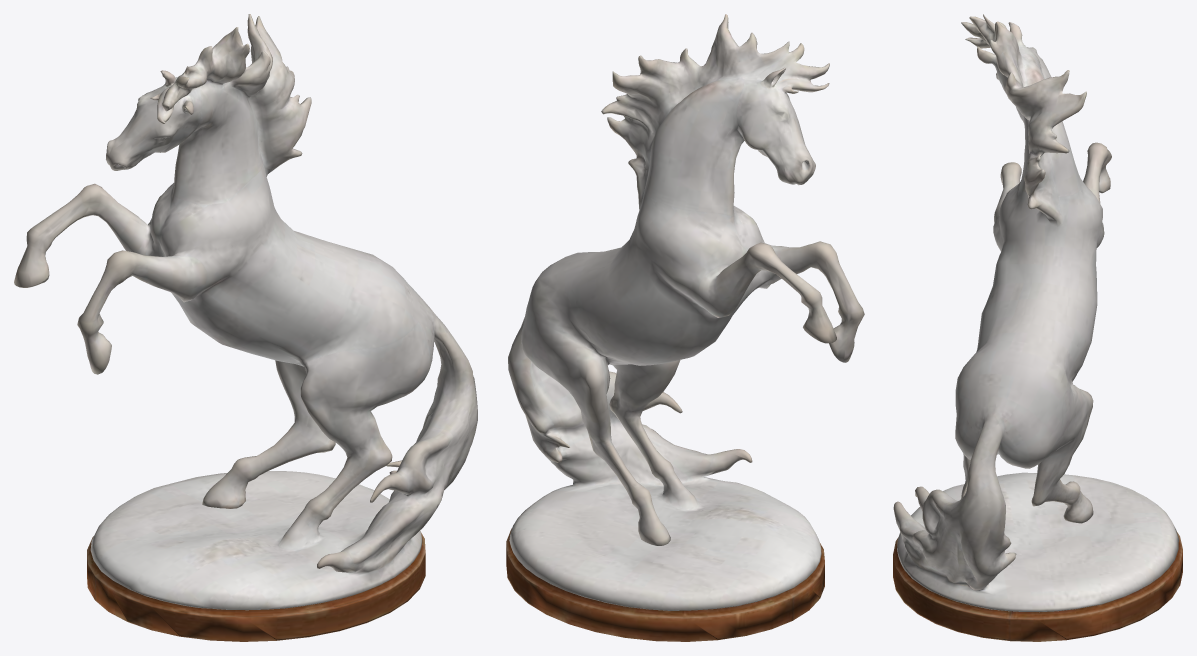
File: suea.glb
3 views of the same model, side by side, from view 1: azimuth 30°, elevation 25°; view 2: azimuth 150°, elevation 25°; view 3: azimuth 270°, elevation 25° (orthographic). The views are drawn at different scales.
Visible parts, largest first — view 1: horse_statue_01; view 2: horse_statue_01; view 3: horse_statue_01.
Part boxes in pixels (x1,y1,x2,y2): horse_statue_01: [14, 14, 477, 641]; horse_statue_01: [506, 14, 864, 641]; horse_statue_01: [893, 14, 1182, 641].
Bounding box in the file's own units: 0.1586 × 0.22 × 0.1081.
1 material, 1 textured.
